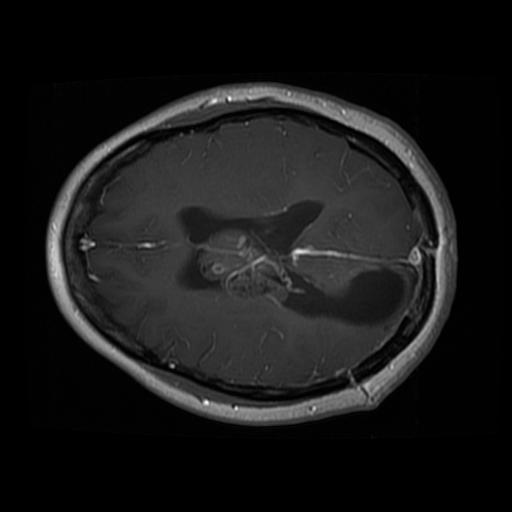glioma: (179, 199, 405, 327)
